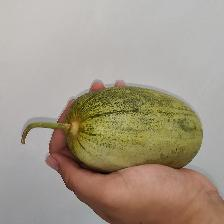gua: (61, 81, 204, 169)
